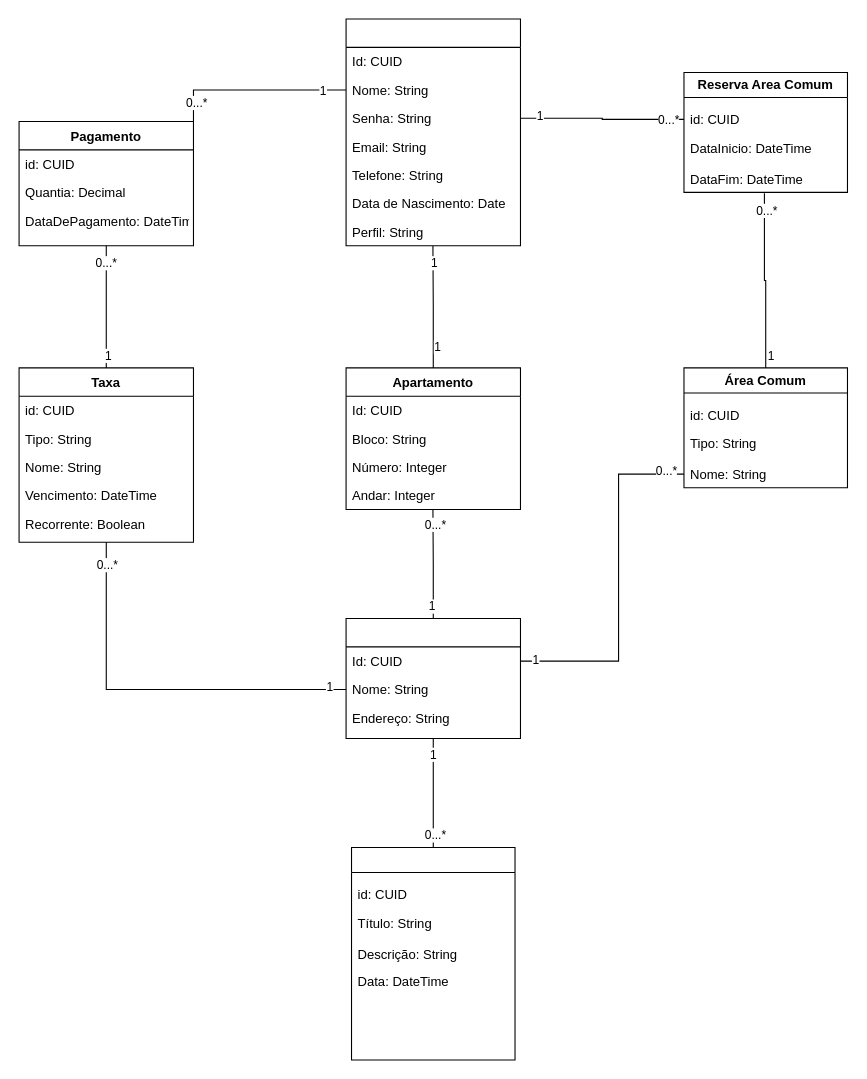
Image size: 867x1079. Some labels were removed from this diagram. The box of each missing label's shape, as (x1, y1, x2, y2) in pixels:
Aviso: (350, 846, 515, 1060)
Condominio: (345, 617, 520, 738)
Usuário: (345, 18, 520, 246)
